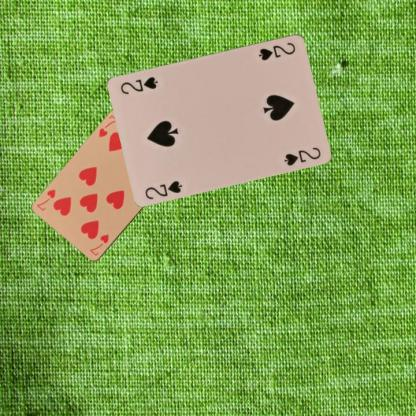2s: (256, 39, 297, 62), (142, 178, 184, 200)
7h: (96, 112, 120, 138), (87, 232, 110, 257)
